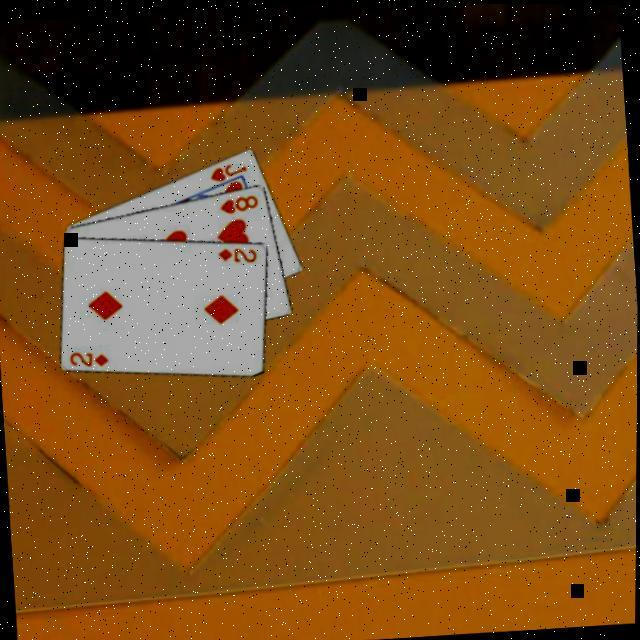2D: (214, 242, 259, 265), (66, 345, 110, 368)
8H: (216, 190, 260, 215)
JH: (205, 158, 248, 183)
